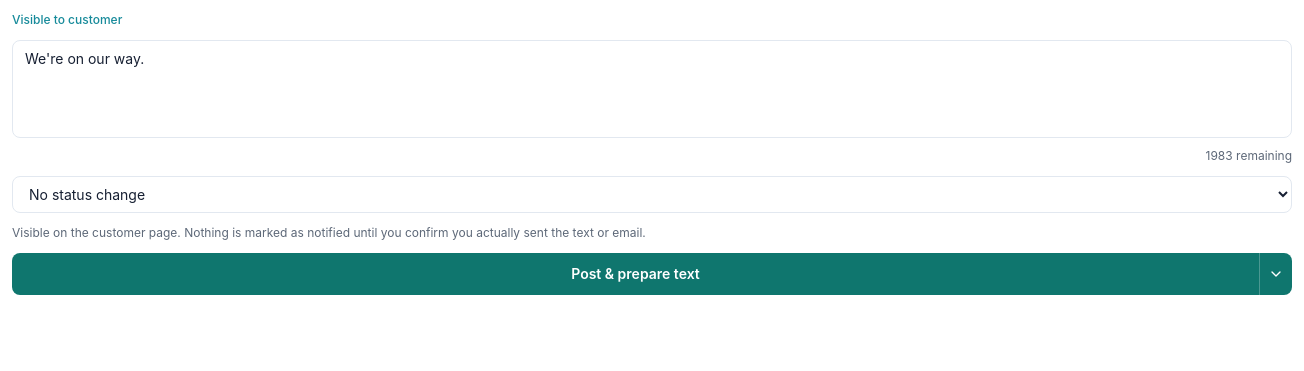
Scenario: BusinessUpdateSection — notify-step wiring (GAP-052b) › does not show NotifyCustomerPanel when the operator explicitly picks page-only
Step 1. Click the button named "More notify options" → {"x": 1276, "y": 274}, box [1259,253,1292,295]
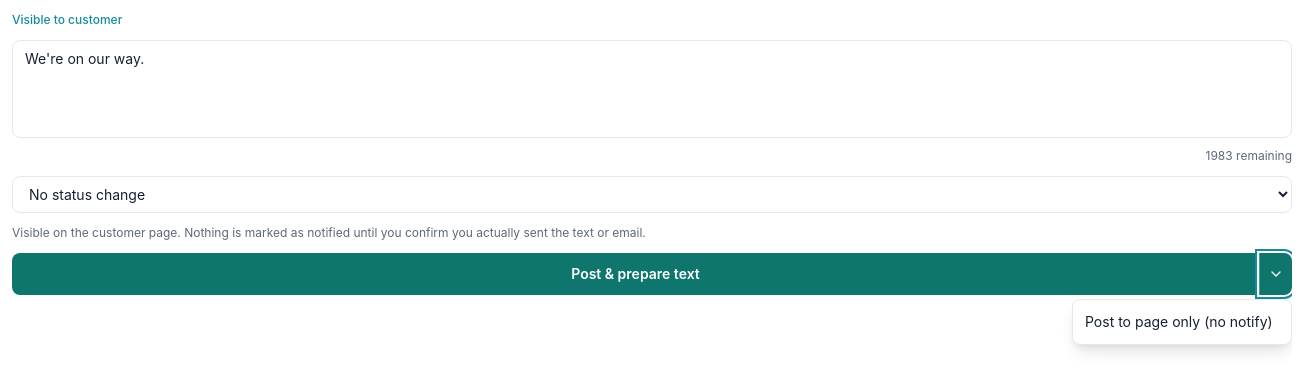
Step 2. Click the menu item "Post to page only (no notify)" → {"x": 1182, "y": 322}, box [1073,304,1291,340]
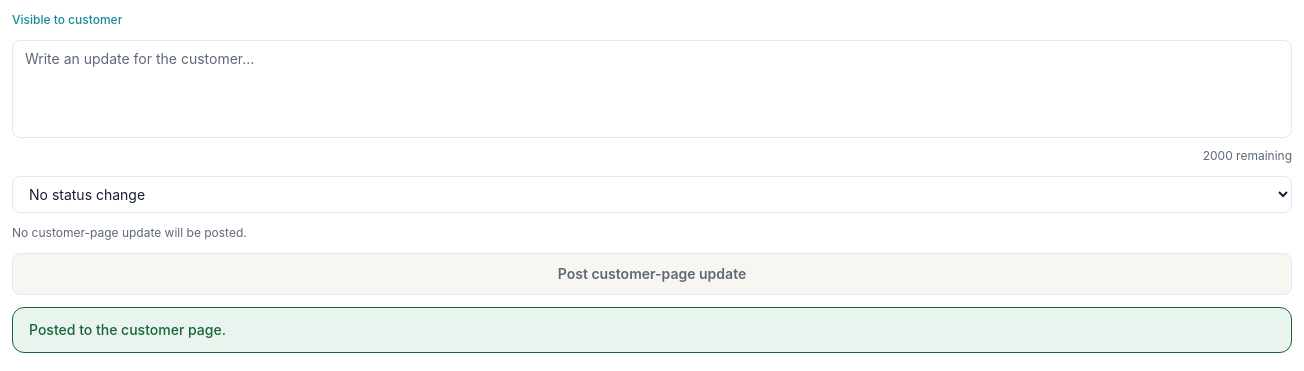
Expected: the message reads "Posted to the customer page.", [29,321,226,338]
